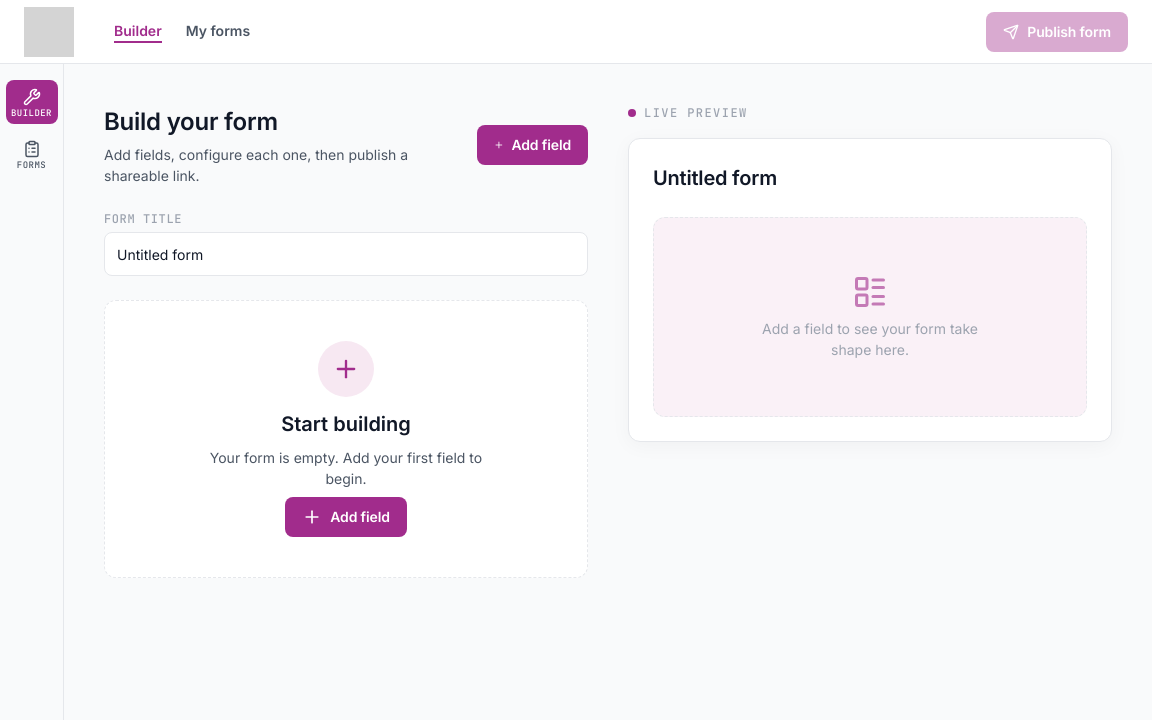
Test: FormBuilder › confirms before removing a field, then returns to the empty state
The width and height of the screenshot is (1152, 720).
Click the button "Add field" in the row of "Build your form".
click(532, 145)  # box [477, 125, 588, 165]
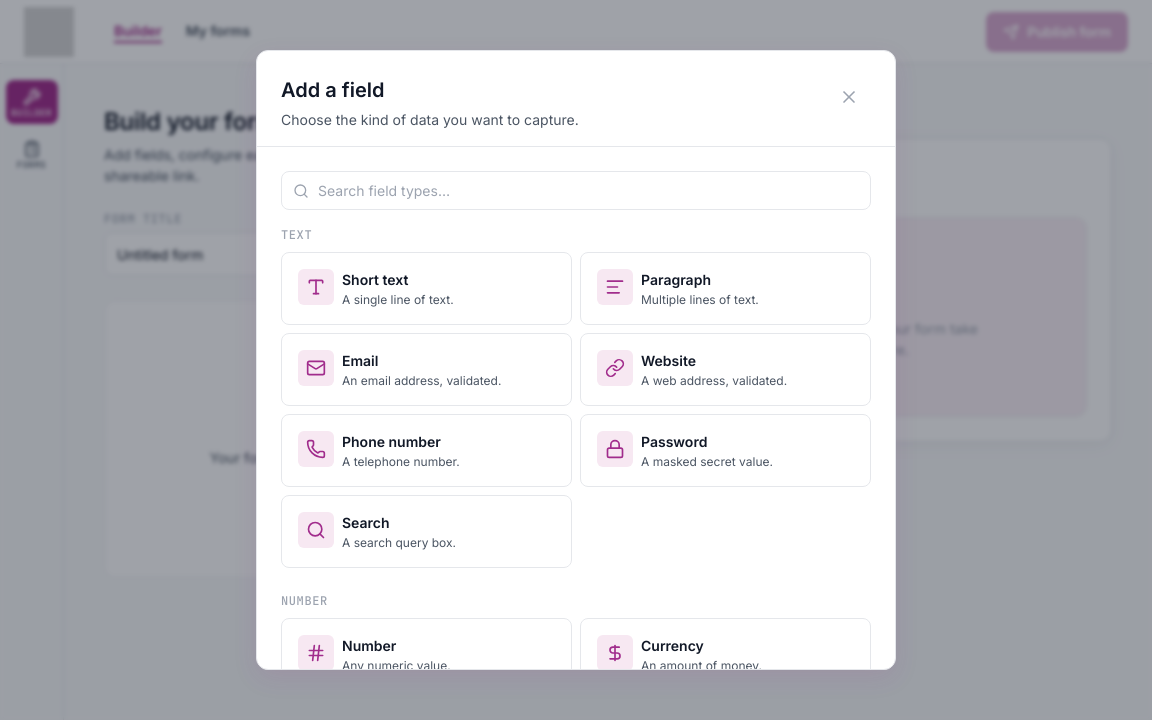
Click the button "Short text A single line of text.".
click(316, 287)  # box [281, 252, 572, 325]
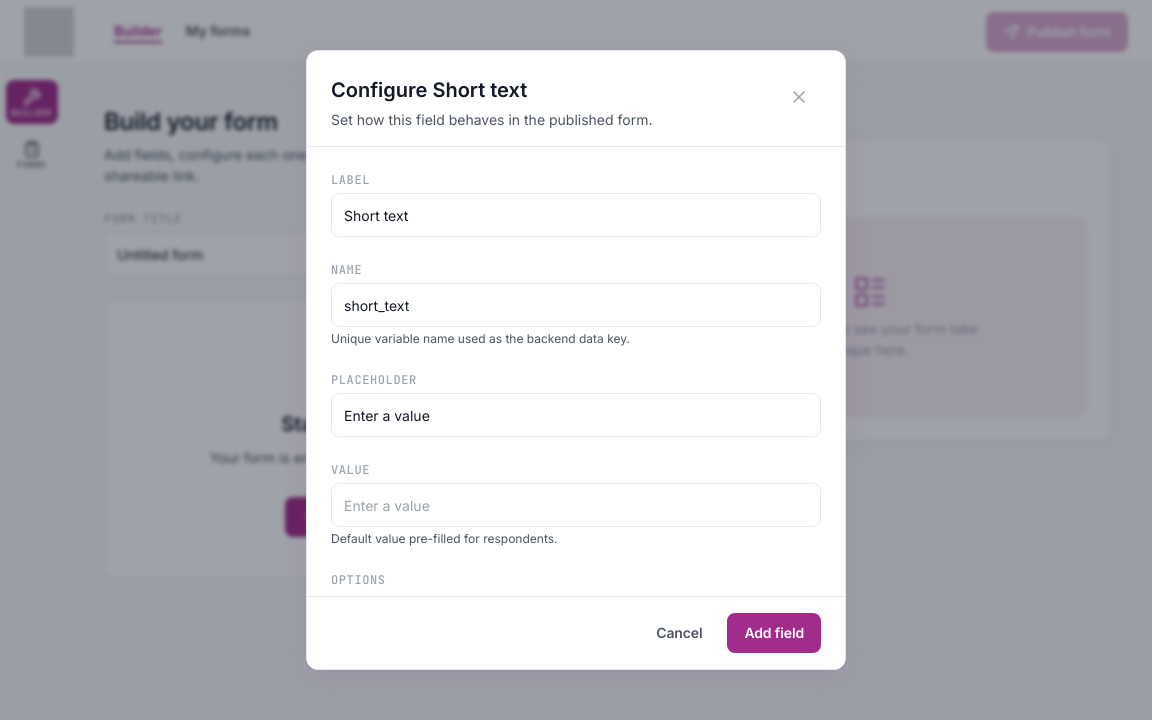
Click the button "Add field".
click(774, 633)  # box [727, 613, 821, 653]
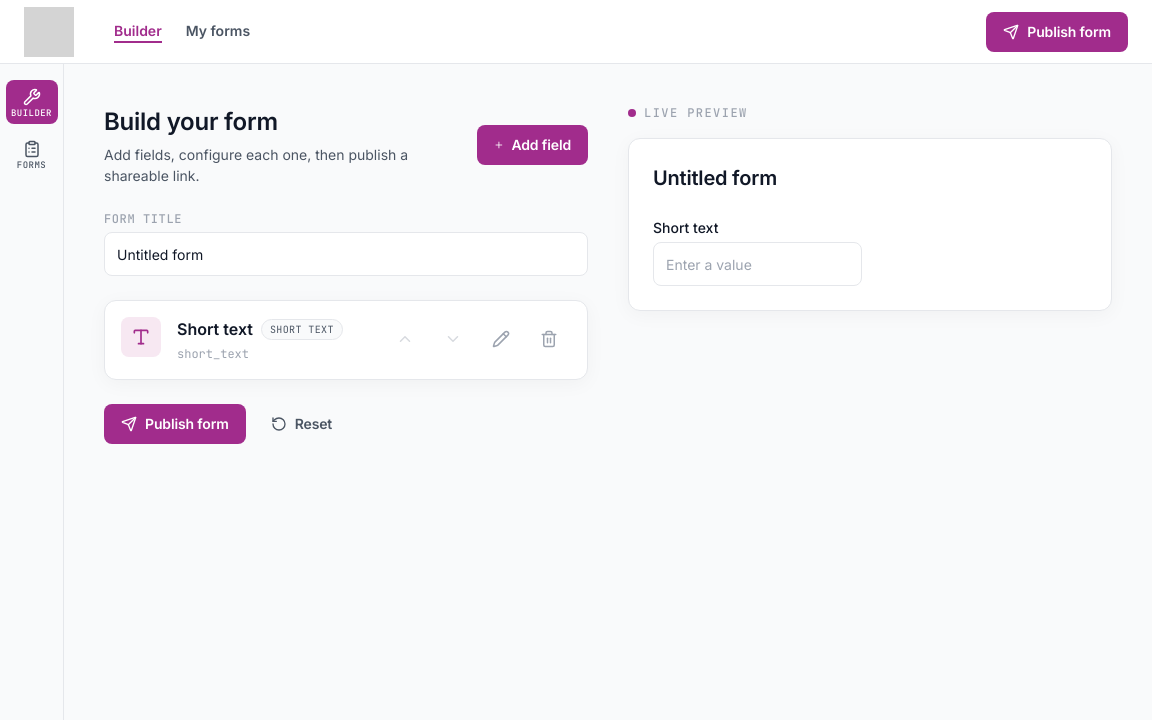
Click the button named "remove field".
click(549, 339)  # box [527, 317, 571, 361]
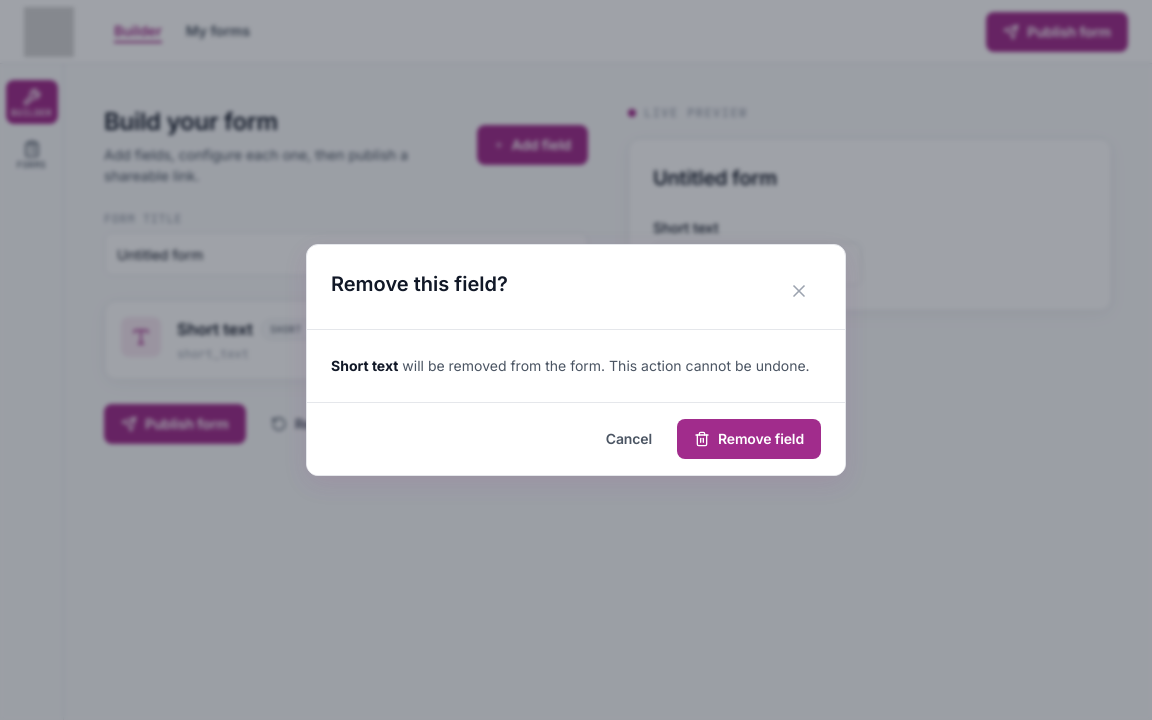
Check: the heading "Start building" is not shown
Click the button "Remove field".
click(749, 439)  # box [677, 419, 821, 459]
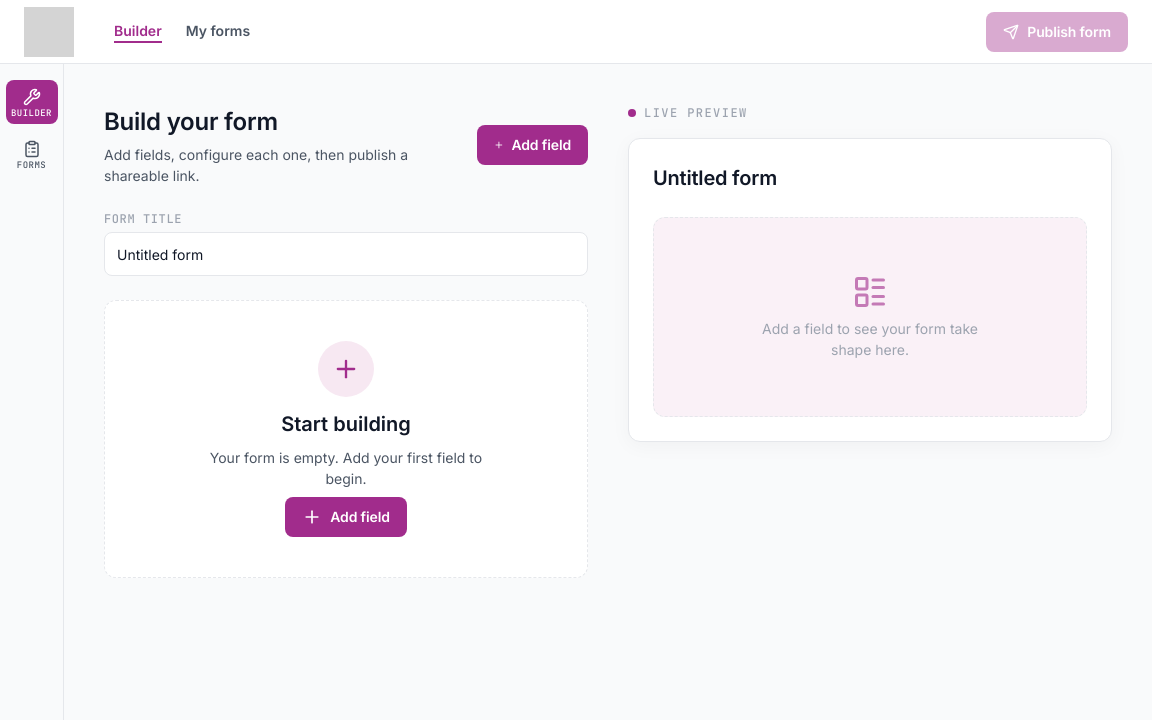
Check: the heading "Start building" is shown, box [281, 409, 411, 439]
